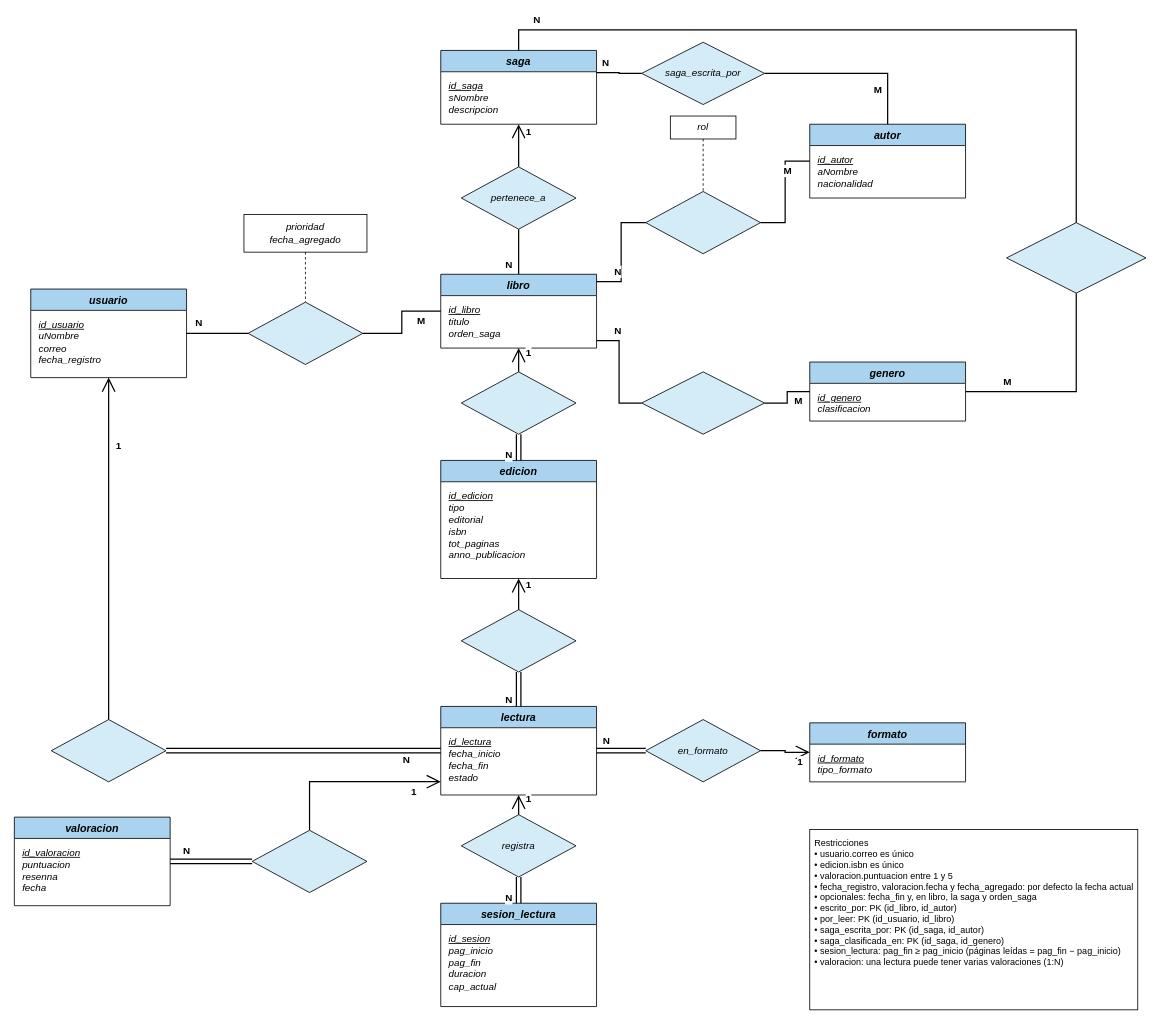
The diagram is 1160 pixels wide and 1024 high, and some of its shapes have lost their labels. The shapes that lost their labels are listed below. From the top down, each one's centre as x and y in pixels, then its label:
At point (703, 222): "escrito_por".
At point (1076, 257): "saga_clasificada_en".
At point (305, 332): "por_leer".
At point (518, 402): "tiene".
At point (703, 402): "clasificado_en".
At point (518, 640): "es_leido".
At point (108, 750): "realiza".
At point (309, 861): "se_valora".
